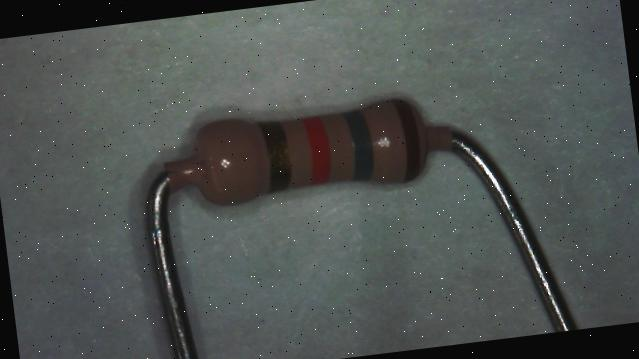brown: (392, 96, 424, 180)
gold: (258, 119, 293, 192)
grey: (341, 108, 376, 181)
orange: (302, 114, 334, 184)
resistor: (172, 76, 460, 220)
